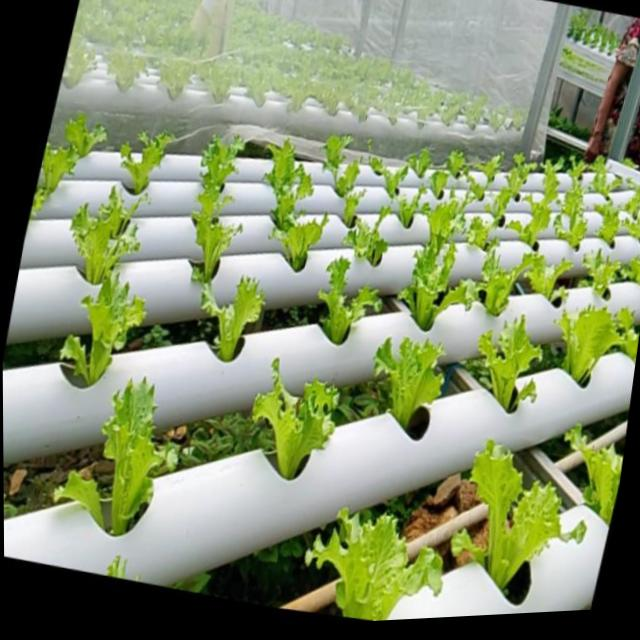Baby: (457, 440, 593, 589), (312, 509, 449, 621), (108, 378, 182, 537), (256, 360, 344, 482), (66, 273, 151, 387), (195, 137, 246, 293), (378, 340, 449, 442), (75, 187, 148, 286), (480, 318, 547, 415), (469, 246, 548, 319), (560, 303, 627, 386), (322, 259, 385, 347), (206, 278, 269, 364), (268, 141, 315, 231), (34, 138, 85, 212), (347, 209, 408, 269), (125, 133, 178, 196), (274, 217, 332, 274), (557, 164, 592, 252), (425, 193, 470, 256), (592, 158, 625, 198), (600, 202, 624, 246), (470, 217, 496, 251), (470, 174, 494, 204), (627, 189, 640, 221)
